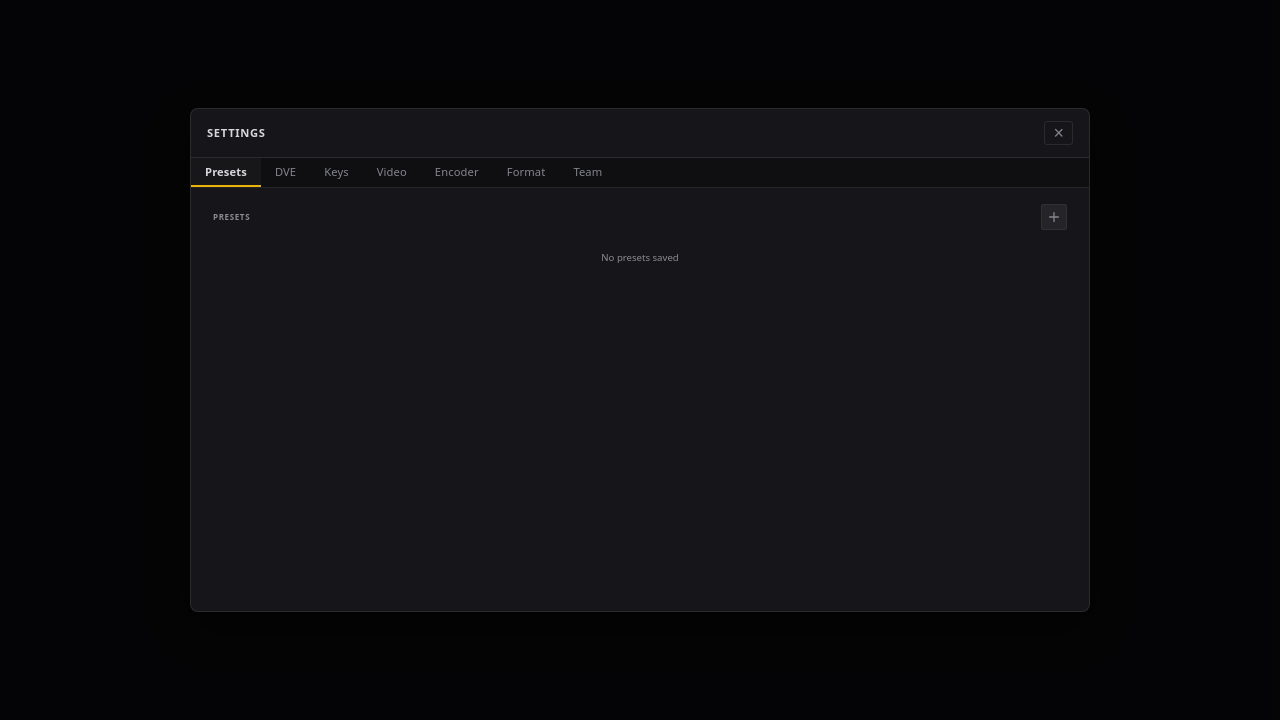
Test: OASettingsModal › DVE tab shows redirect message
Click the tab "DVE". click: (286, 172)
box: 261,158 -> 310,187
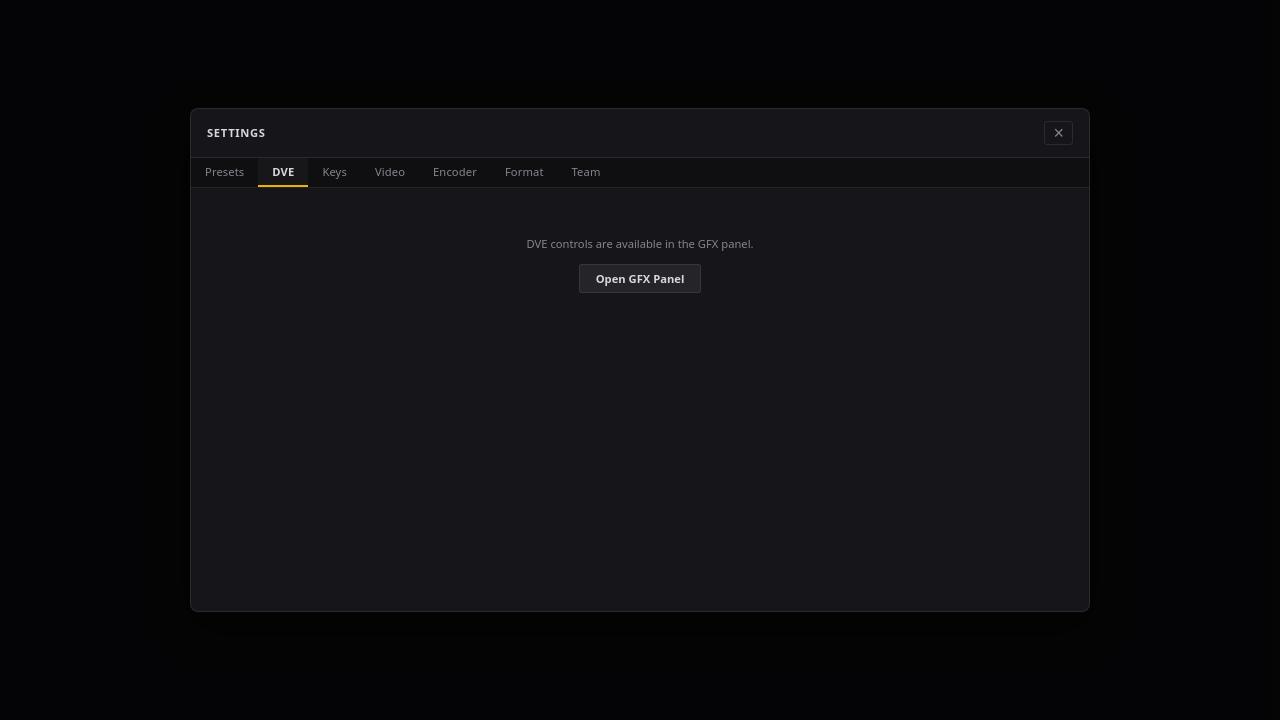
Expected: the text "DVE controls are available in the GFX panel." is shown, 526,236 -> 754,252
Expected: the button "Open GFX Panel" is shown, 579,264 -> 701,293
